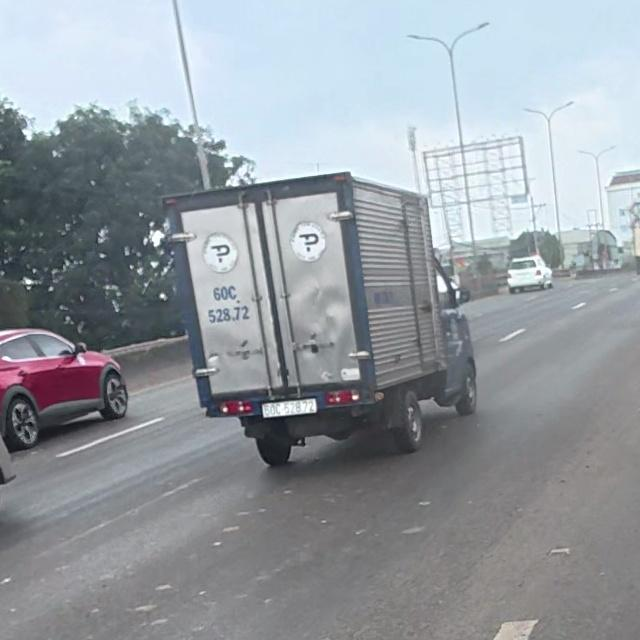license-plate: (261, 399, 319, 418)
